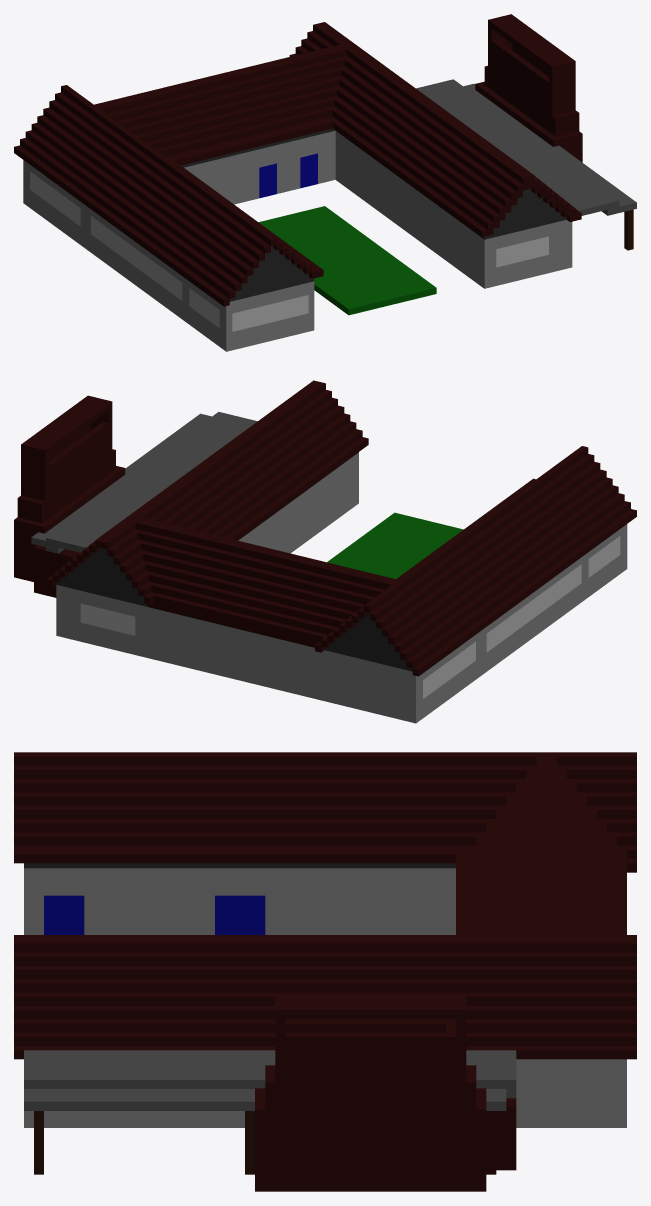
The model's file is refeitorio.obj.
The picture shows the model from 3 angles, top to bottom: view 1: azimuth 30°, elevation 25°; view 2: azimuth 150°, elevation 25°; view 3: azimuth 270°, elevation 25°; orthographic projection. The views are drawn at different scales.
Bounding box in the file's own units: 7.5 × 2 × 6.2.
1 material, 1 textured.
